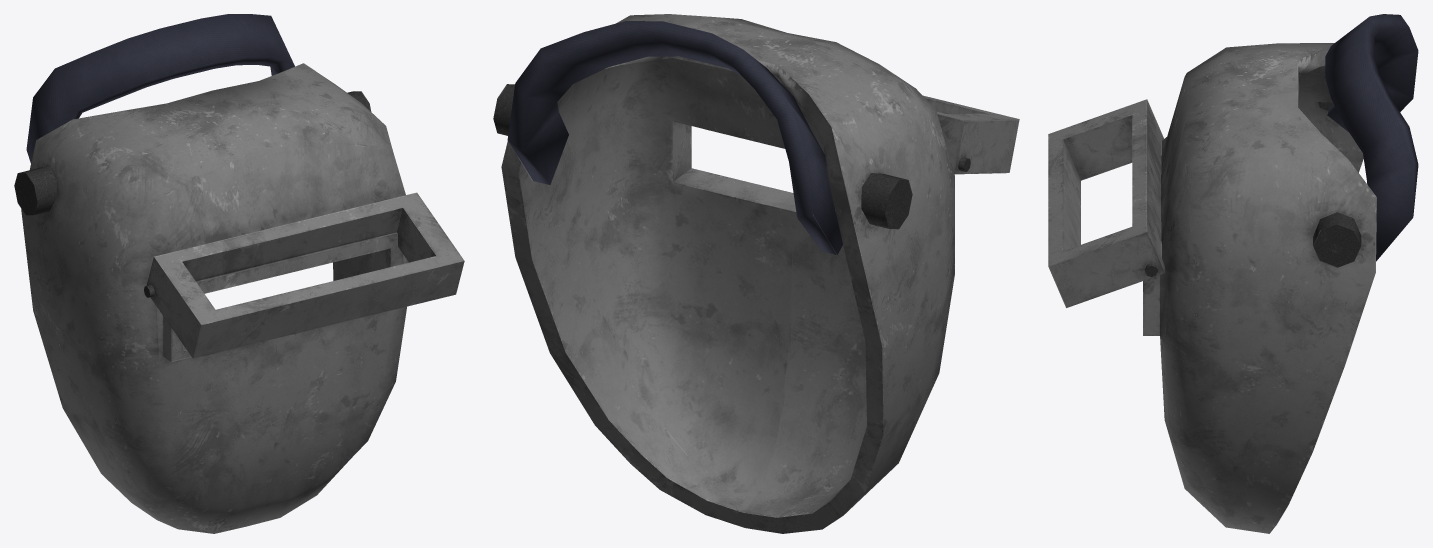
The model's file is pelindung_wajah_1.fbx.
The picture shows the model from 3 angles, left to right: view 1: azimuth 30°, elevation 25°; view 2: azimuth 150°, elevation 25°; view 3: azimuth 270°, elevation 25°; orthographic projection. The views are drawn at different scales.
Visible parts, largest first — view 1: pelindung_wajah_1; view 2: pelindung_wajah_1; view 3: pelindung_wajah_1.
Boxes of the visible parts, x1,y1,x2,y2 form: pelindung_wajah_1: [14, 14, 464, 533]; pelindung_wajah_1: [493, 14, 1019, 533]; pelindung_wajah_1: [1048, 14, 1418, 533].
Size of the model in its own units: 23.28 by 30.79 by 21.48.
1 material, 1 textured.
